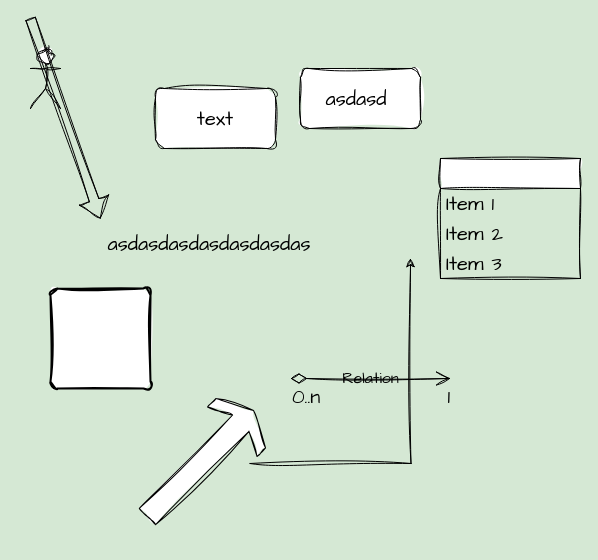
This 598x560 diagram has some shape labels left out. Each missing label, with the box of its shape:
Actor: (30, 48, 60, 108)
List: (440, 158, 580, 278)
